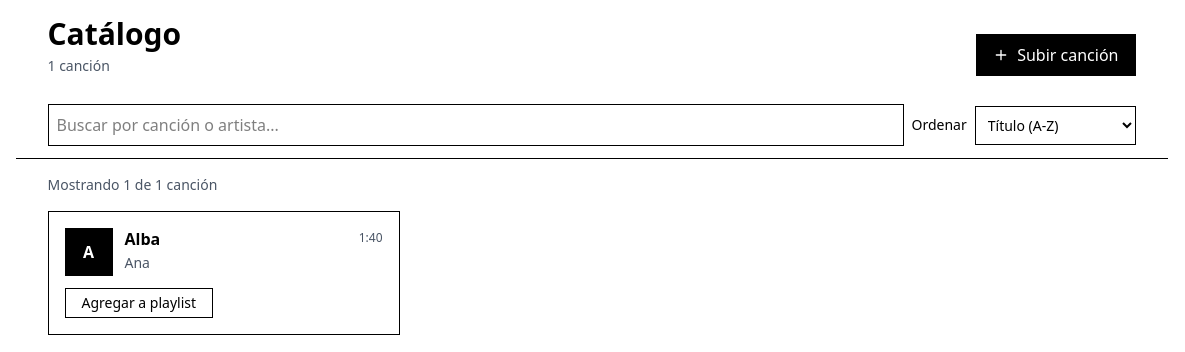
Catalog › el orden y la búsqueda se mandan al server
The width and height of the screenshot is (1185, 352).
Later steps or results of the test are not shown.
Expected: the text "Mostrando 1 de 1 canción" is shown, [48,175,217,194]
Select "Más nuevas" in the dropdown labelled "Ordenar" at (1055, 125), box [975,106,1136,144]
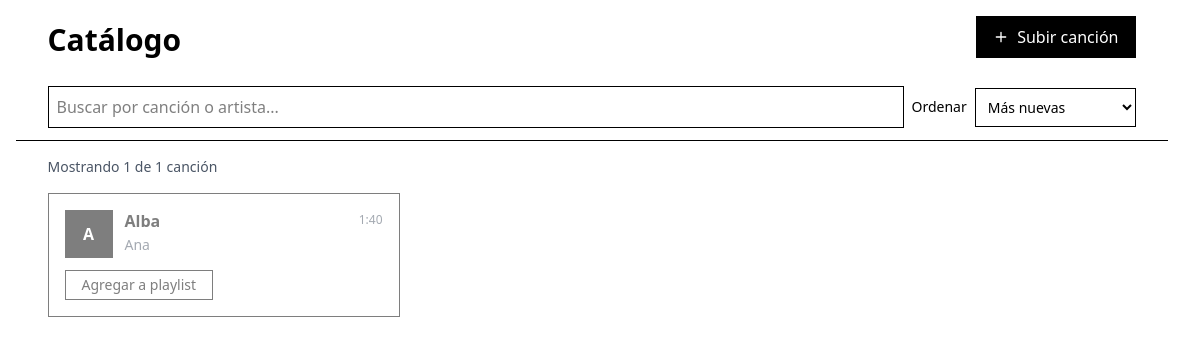
Type " ana " into the search field at (476, 107), box [48,86,904,128]
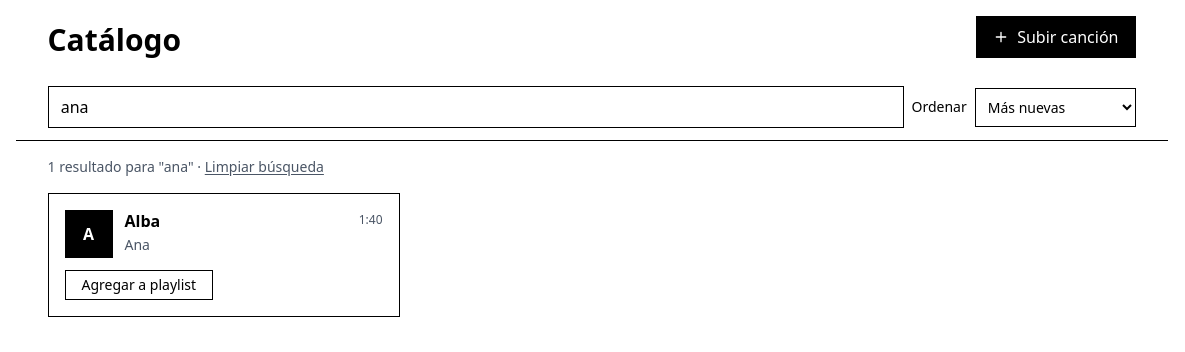
Expected: the text "1 resultado para \"ana\" · Limpiar búsqueda" is shown, [48,157,324,177]
